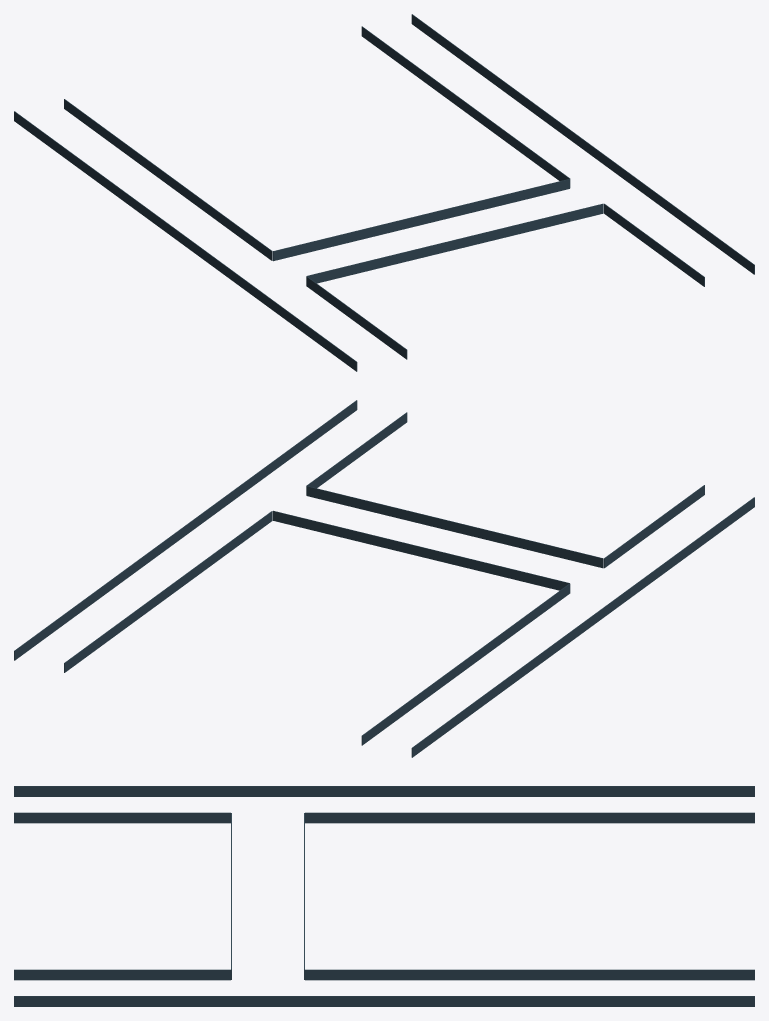
File: v02-01-04-steel.glb
3 renders of one model, top to bottom at view 1: azimuth 30°, elevation 25°; view 2: azimuth 150°, elevation 25°; view 3: azimuth 270°, elevation 25°, orthographic. The views are drawn at different scales.
Visible parts, largest first — view 1: v02-01-04-steel; view 2: v02-01-04-steel; view 3: v02-01-04-steel.
Part boxes in pixels (left/top/right/bottom): v02-01-04-steel: left=14, top=14, right=754, bottom=371; v02-01-04-steel: left=14, top=400, right=754, bottom=757; v02-01-04-steel: left=14, top=786, right=754, bottom=1006.
Size of the model in its own units: 46.98 by 1.1 by 70.
